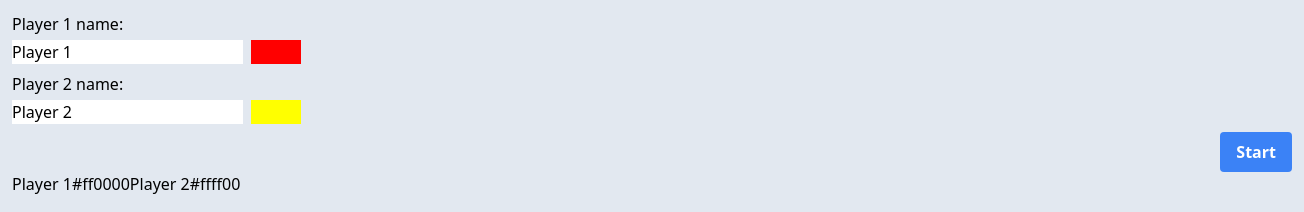
Test: GameSettings › updating player 1 name should work
This screenshot has width=1304, height=212.
Replace the text in the field labelled "Player 1 name:" with "Bob" at x=128, y=52, box [12,40,243,64]
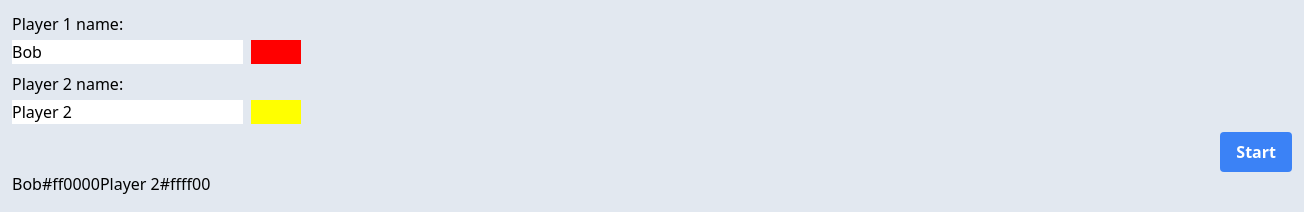
Result: the text with test id "player1Name" reads "Bob" at [12,173,42,195]
